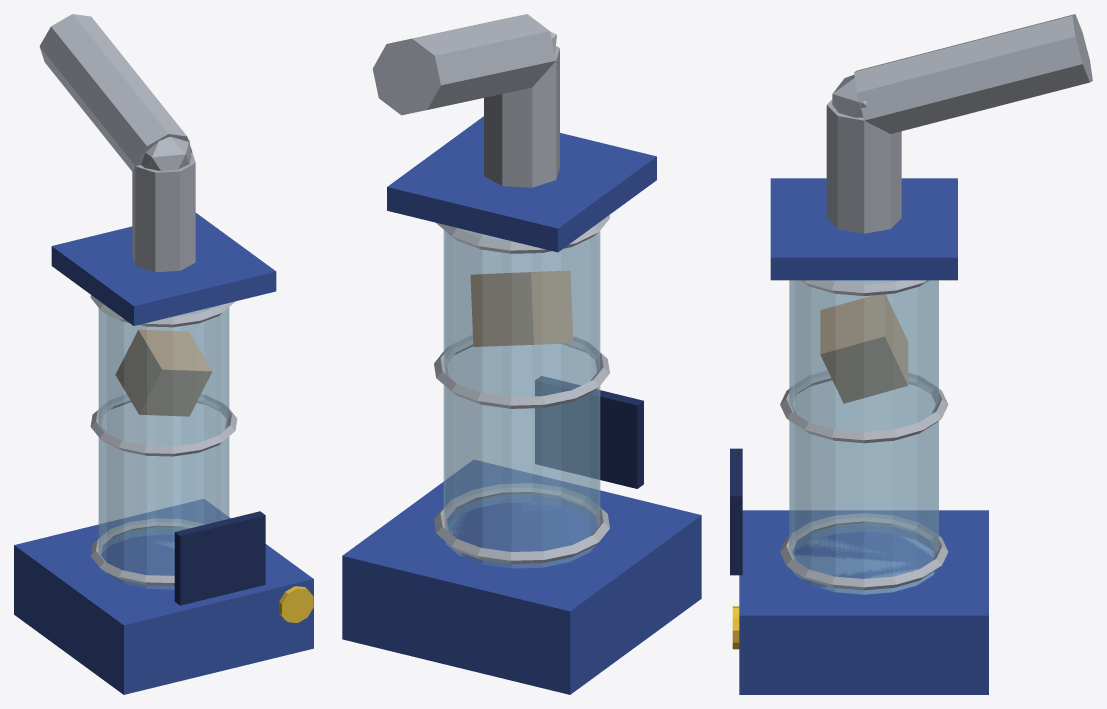
Rendered from MailChutePneumatic.fbx.
3 renders of one model, left to right at view 1: azimuth 30°, elevation 25°; view 2: azimuth 150°, elevation 25°; view 3: azimuth 270°, elevation 25°, orthographic. The views are drawn at different scales.
Visible parts, largest first — view 1: Base, Tube, Pipe, Hatch, Parcel, Rings, Gauge; view 2: Base, Tube, Pipe, Rings, Hatch, Parcel; view 3: Base, Tube, Pipe, Rings, Parcel, Hatch.
Part boxes in pixels (x1,y1,x2,y2): Base: (14, 213, 313, 694); Tube: (98, 305, 229, 589); Pipe: (39, 14, 195, 272); Hatch: (174, 511, 265, 605); Parcel: (115, 329, 212, 416); Rings: (90, 295, 237, 585); Gauge: (279, 586, 313, 622); Base: (342, 116, 701, 694); Tube: (443, 227, 600, 568); Pipe: (372, 14, 559, 187); Rings: (434, 215, 609, 563); Hatch: (535, 376, 643, 488); Parcel: (470, 270, 573, 346); Base: (739, 178, 988, 694); Tube: (789, 280, 938, 594); Pipe: (826, 14, 1092, 233); Rings: (780, 280, 948, 590); Parcel: (820, 294, 908, 403); Hatch: (730, 448, 742, 575).
Size of the model in its own units: 4 by 11.08 by 5.81.
